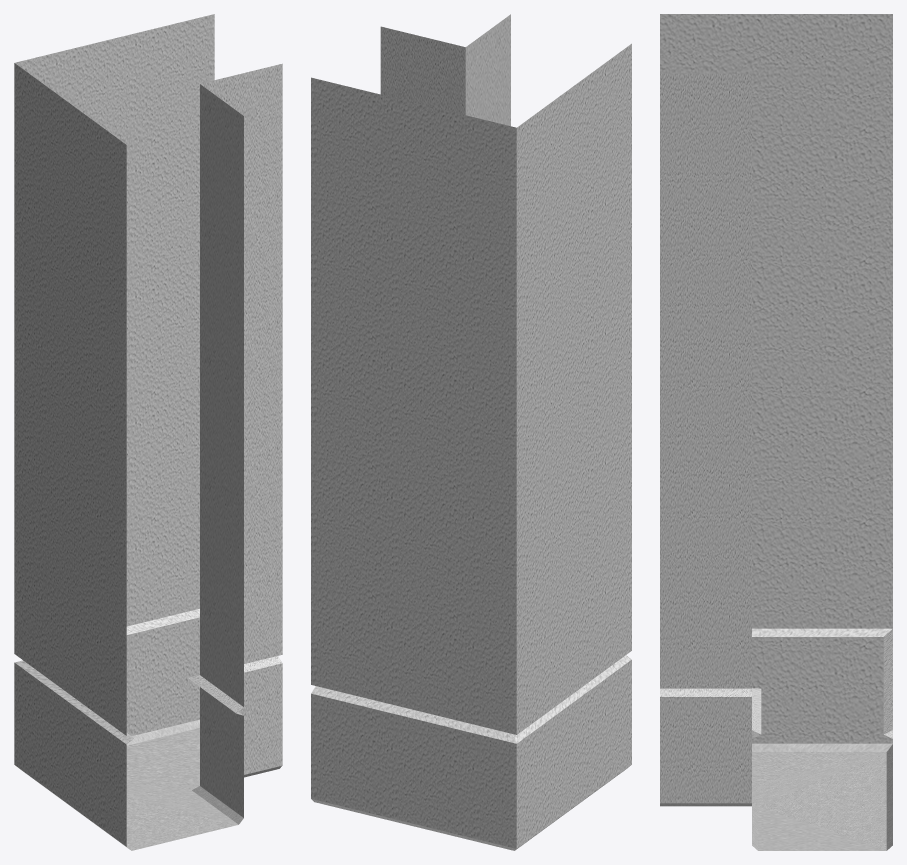
File: Office_Wall_Top_Corner.fbx
3 views of the same model, side by side, from view 1: azimuth 30°, elevation 25°; view 2: azimuth 150°, elevation 25°; view 3: azimuth 270°, elevation 25° (orthographic). The views are drawn at different scales.
Parts seen in each view (by area): view 1: Office_Wall_Top_Corner; view 2: Office_Wall_Top_Corner; view 3: Office_Wall_Top_Corner.
Part boxes in pixels (left/top/right/bottom): Office_Wall_Top_Corner: left=14, top=14, right=282, bottom=850; Office_Wall_Top_Corner: left=311, top=14, right=631, bottom=850; Office_Wall_Top_Corner: left=660, top=14, right=892, bottom=850.
Bounding box in the file's own units: 36.74 × 124 × 35.61.
